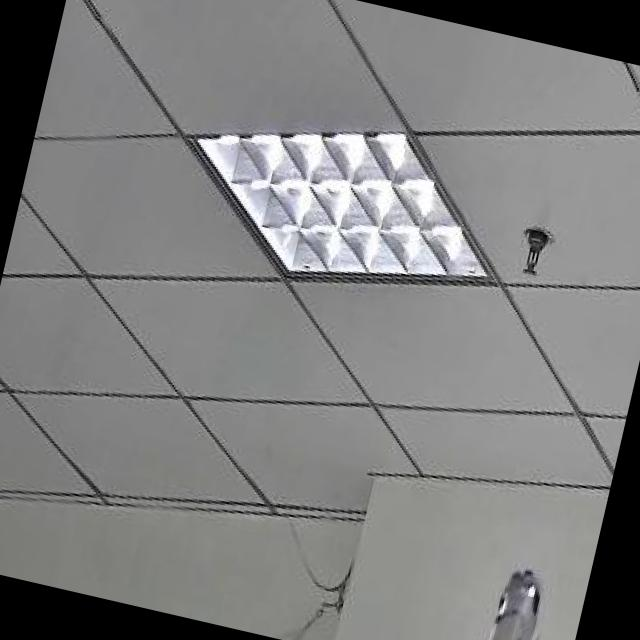Guns: (454, 518, 597, 640)
